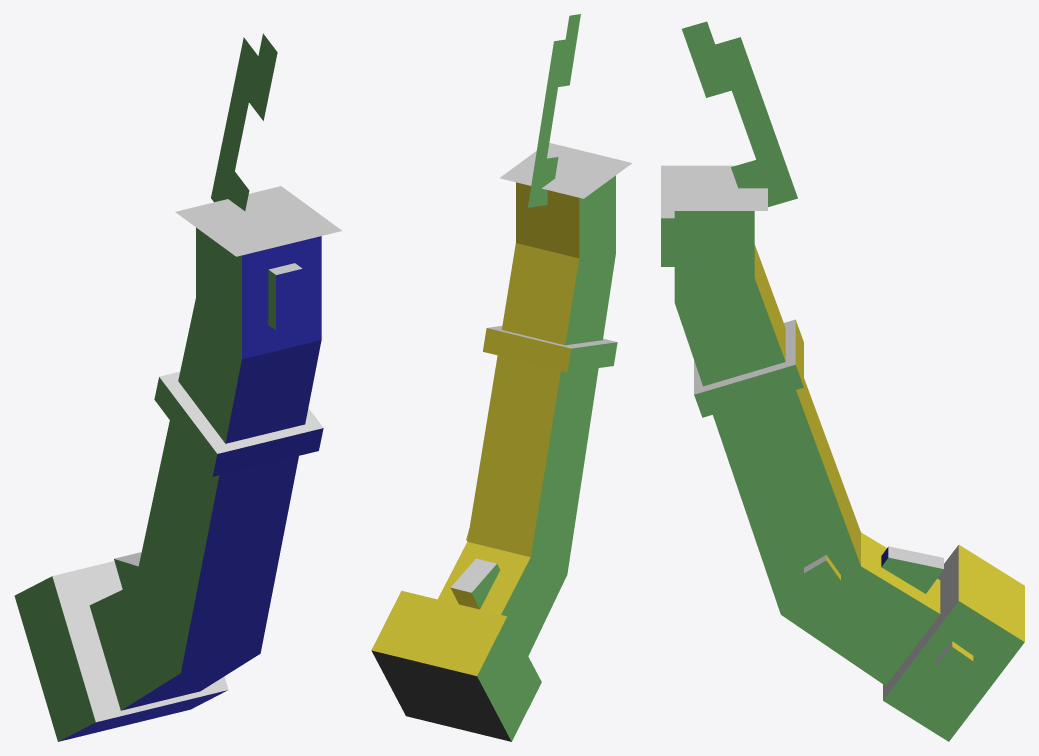
Rendered from dook.obj.
3 views of the same model, side by side, from view 1: azimuth 30°, elevation 25°; view 2: azimuth 150°, elevation 25°; view 3: azimuth 270°, elevation 25° (orthographic). The views are drawn at different scales.
Visible parts, largest first — view 1: body,013, emitter.013, pommel.013; view 2: body,013, pommel.013, emitter.013; view 3: body,013, pommel.013, emitter.013.
Boxes of the visible parts, bbox=[...] form: body,013: bbox=[135, 298, 323, 672]; emitter.013: bbox=[175, 33, 341, 359]; pommel.013: bbox=[14, 552, 259, 741]; body,013: bbox=[466, 243, 617, 574]; pommel.013: bbox=[371, 542, 566, 741]; emitter.013: bbox=[499, 14, 632, 258]; body,013: bbox=[674, 245, 860, 614]; pommel.013: bbox=[781, 532, 1024, 741]; emitter.013: bbox=[661, 21, 797, 301].
Size of the model in its own units: 0.55 by 2.89 by 1.36.
1 material, 1 textured.
